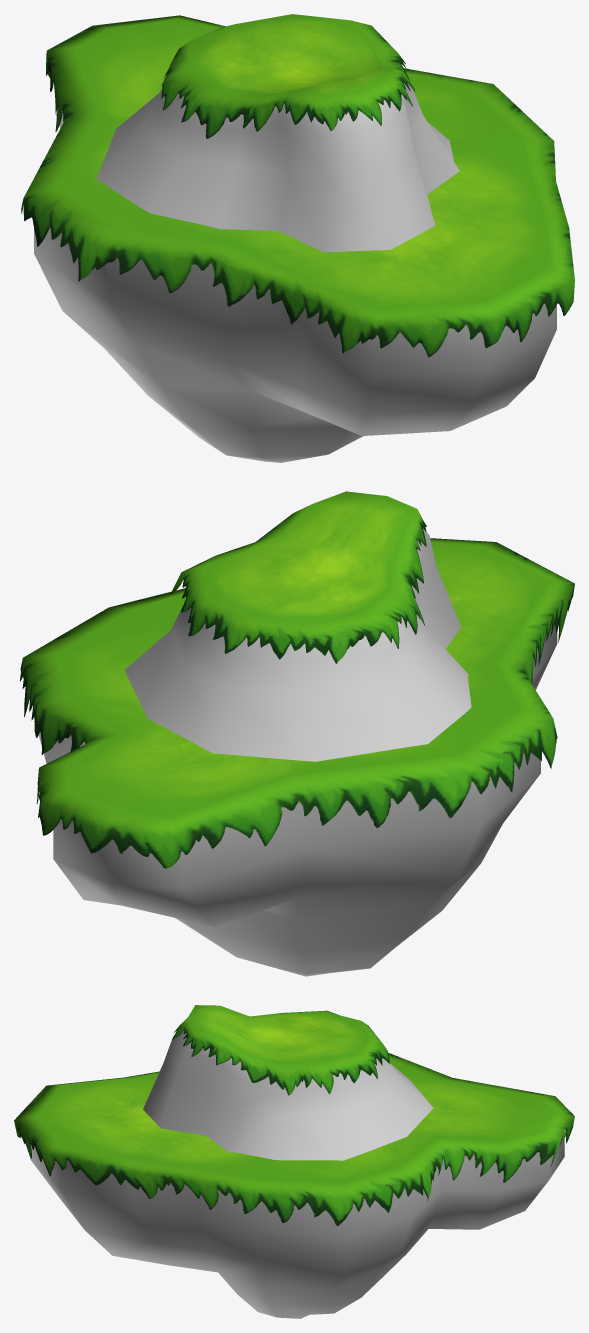
Rendered from Island_Small_09.fbx.
3 views of the same model, one above another, from view 1: azimuth 30°, elevation 25°; view 2: azimuth 150°, elevation 25°; view 3: azimuth 270°, elevation 25° (orthographic). The views are drawn at different scales.
Parts seen in each view (by area): view 1: Island_Small_09; view 2: Island_Small_09; view 3: Island_Small_09.
Boxes of the visible parts, bbox=[...] form: Island_Small_09: bbox=[21, 14, 574, 462]; Island_Small_09: bbox=[20, 491, 574, 976]; Island_Small_09: bbox=[14, 1005, 574, 1318].
Bounding box in the file's own units: 364 × 300 × 524.
